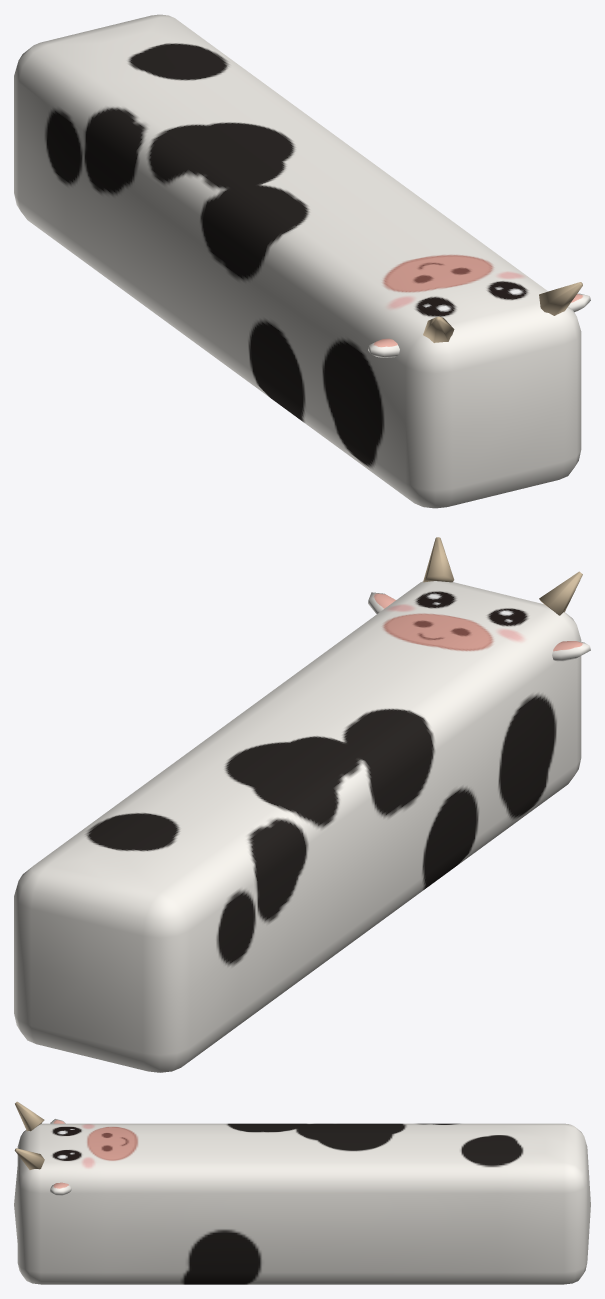
Rendered from Cow_4x1.fbx.
3 views of the same model, one above another, from view 1: azimuth 30°, elevation 25°; view 2: azimuth 150°, elevation 25°; view 3: azimuth 270°, elevation 25° (orthographic). The views are drawn at different scales.
Parts seen in each view (by area): view 1: Cow_4x1; view 2: Cow_4x1; view 3: Cow_4x1.
Part boxes in pixels (x1,y1,x2,y2): Cow_4x1: (14,14,590,508); Cow_4x1: (14,537,590,1072); Cow_4x1: (14,1101,590,1284).
Size of the model in its own units: 1.18 by 1.02 by 3.97.
Materials: 1 (1 with a texture image).
